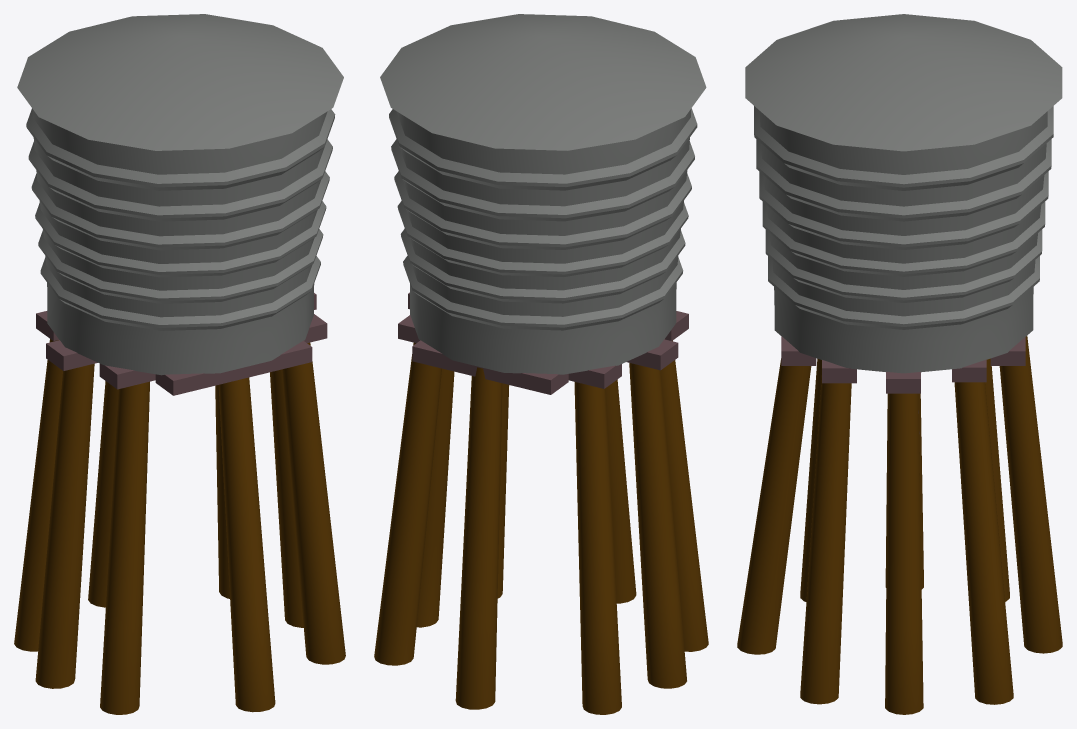
Rendered from water_tower_01.fbx.
The picture shows the model from 3 angles, left to right: view 1: azimuth 30°, elevation 25°; view 2: azimuth 150°, elevation 25°; view 3: azimuth 270°, elevation 25°; orthographic projection.
Parts seen in each view (by area): view 1: Water_tower; view 2: Water_tower; view 3: Water_tower.
Part boxes in pixels (bbox=[...]): Water_tower: bbox=[14, 14, 345, 714]; Water_tower: bbox=[374, 14, 708, 714]; Water_tower: bbox=[737, 14, 1062, 714].
Size of the model in its own units: 4.84 by 10.01 by 4.84.
